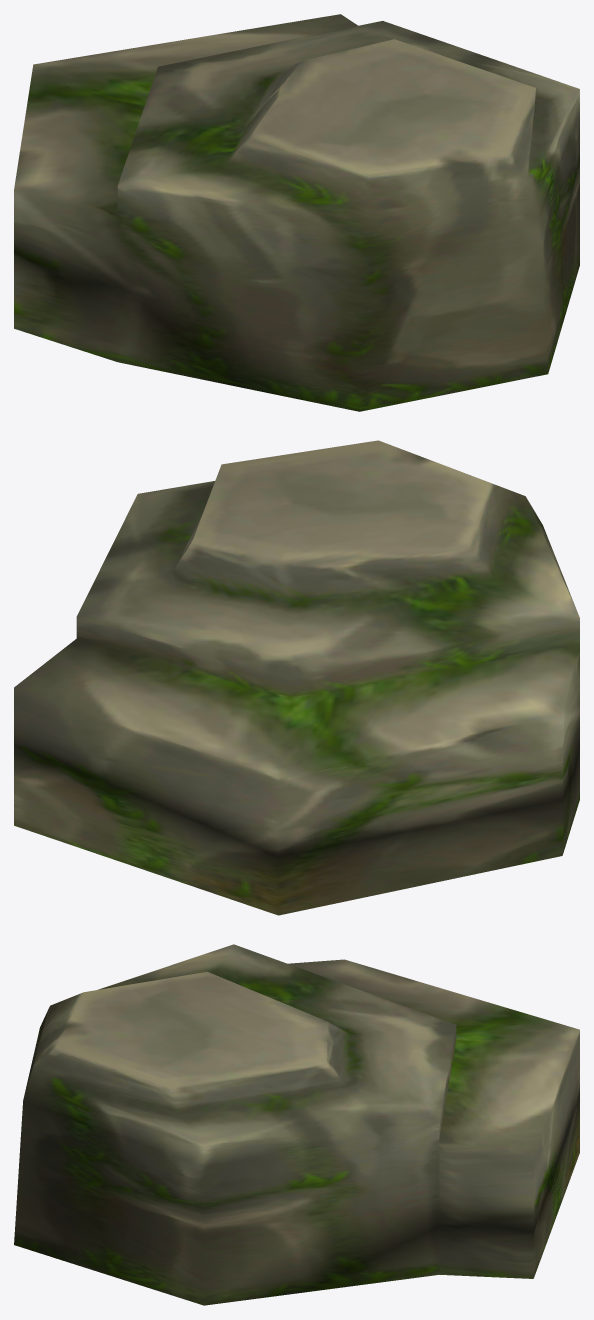
Rendered from RockFormation_4_5 (38).fbx.
3 views of the same model, one above another, from view 1: azimuth 30°, elevation 25°; view 2: azimuth 150°, elevation 25°; view 3: azimuth 270°, elevation 25° (orthographic). The views are drawn at different scales.
Parts seen in each view (by area): view 1: RockFormation_4_5 (38); view 2: RockFormation_4_5 (38); view 3: RockFormation_4_5 (38).
Part boxes in pixels (x1,y1,x2,y2): RockFormation_4_5 (38): [14, 14, 579, 411]; RockFormation_4_5 (38): [14, 440, 579, 915]; RockFormation_4_5 (38): [14, 944, 579, 1305].
Size of the model in its own units: 507 by 204 by 554.
1 material, 1 textured.
